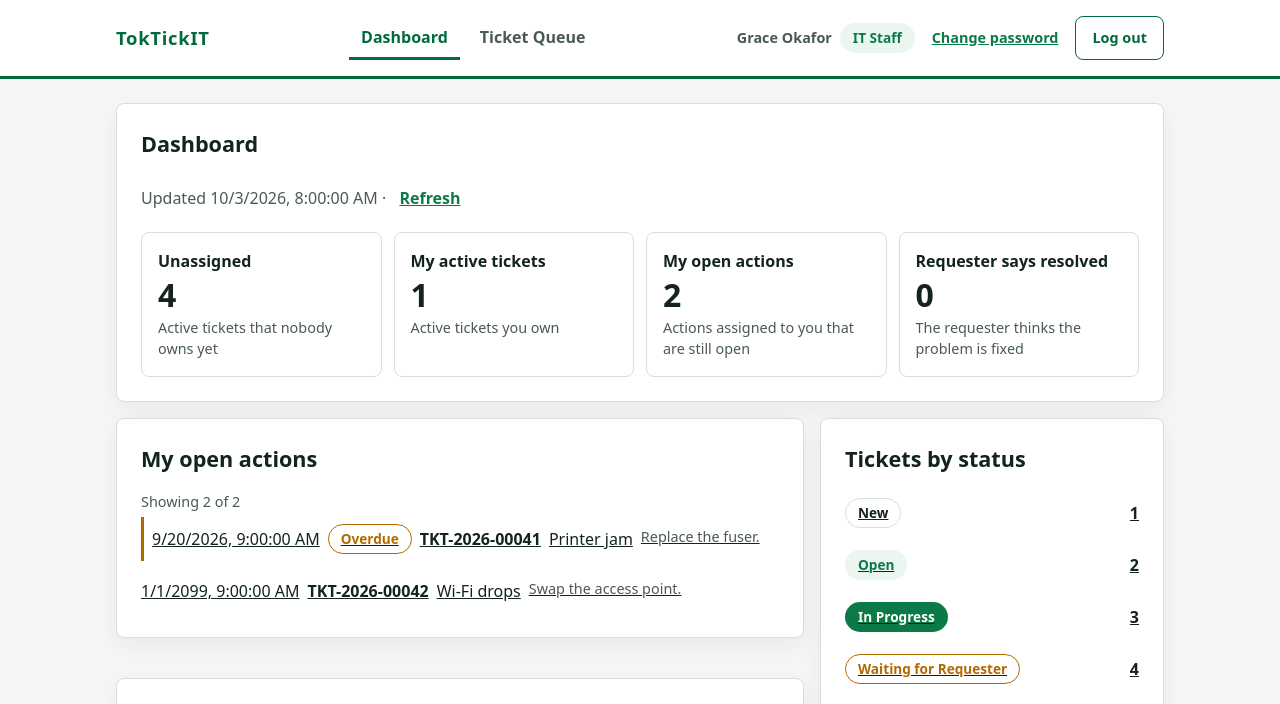
Test: UI-05 the four cards › drill down: the Unassigned card opens the queue already asking for unassigned active tickets
Expected: the heading "Dashboard" is shown, [141,129,258,158]
Click the link with aria-label "Unassigned: 4 tickets".
click(261, 305)  # box [141,232,382,377]
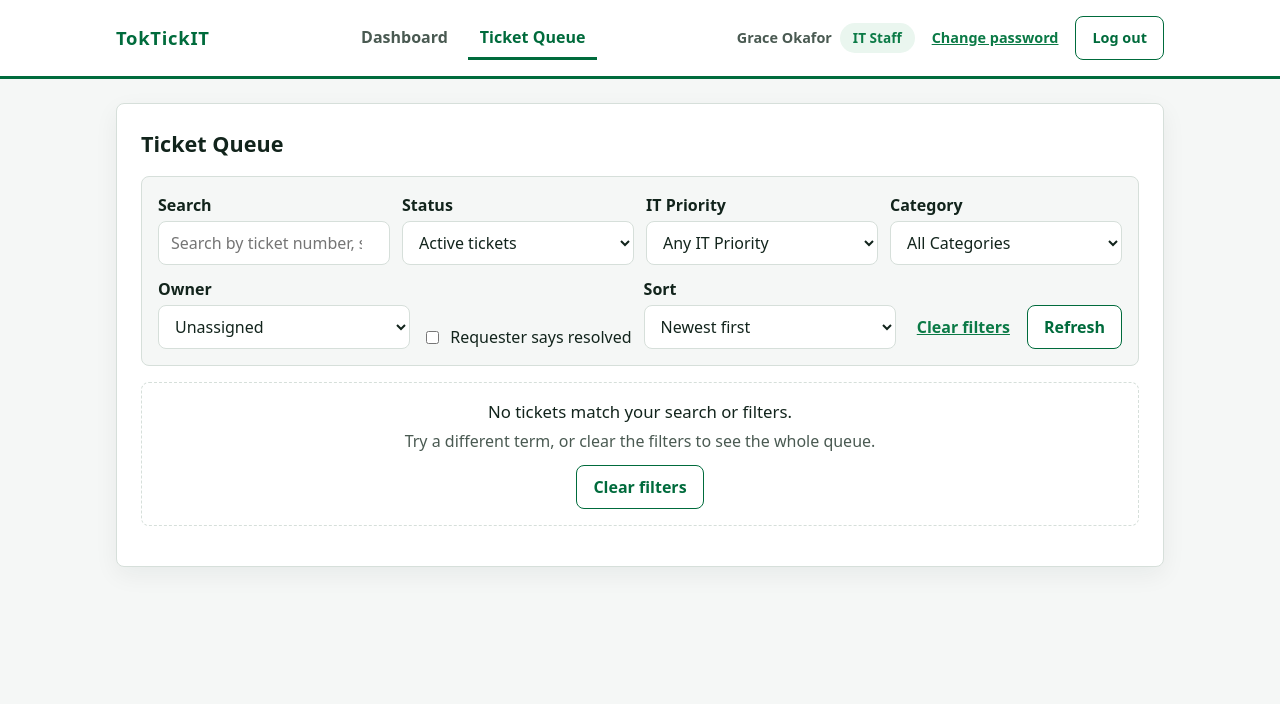
Now the heading "Ticket Queue" is shown, box [141,129,283,158]
Now the dropdown labelled "Status" shows "Active tickets", box [402,221,634,265]
Now the dropdown labelled "Owner" shows "Unassigned", box [158,305,410,349]
